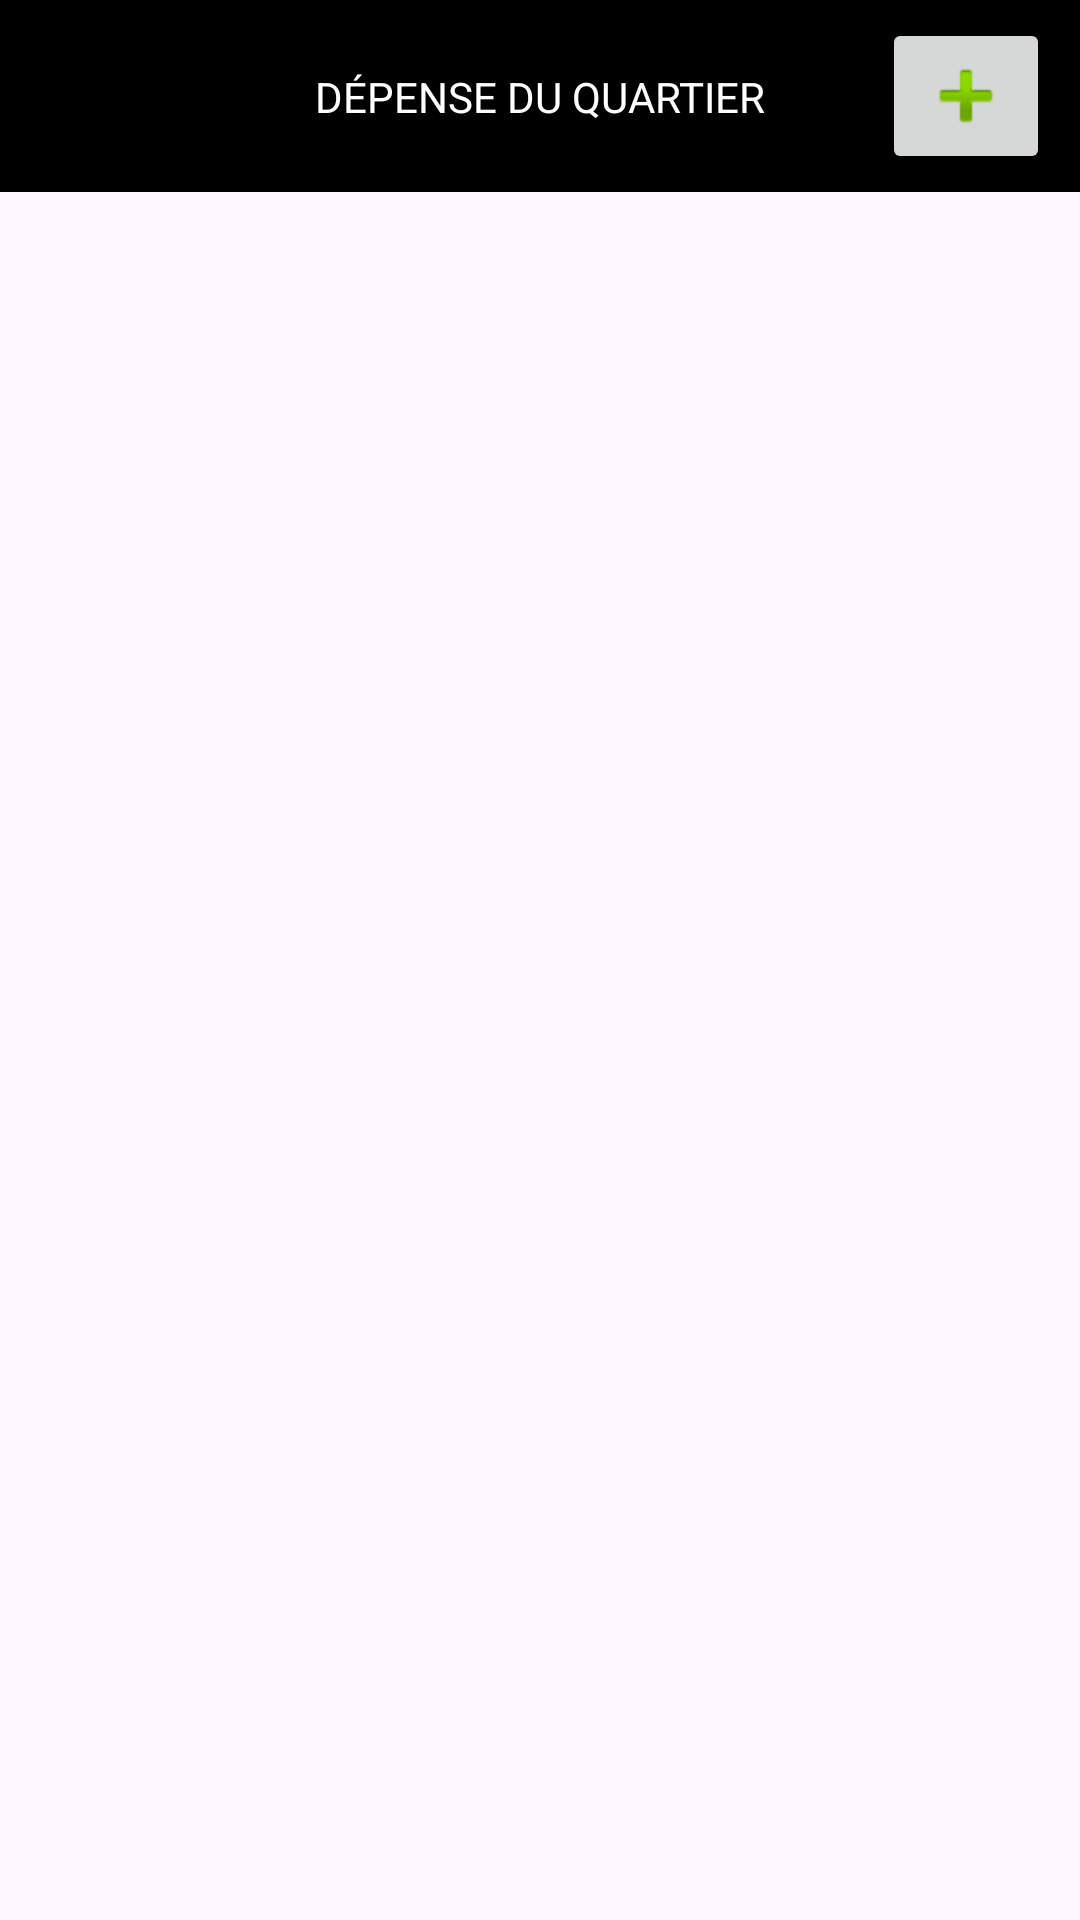

Screen size 1080 x 1920. Icon name, then its box in pixels as [left=x1, top=y1, right=x2, bottom=y2]:
add: [left=894, top=36, right=1038, bottom=156]
